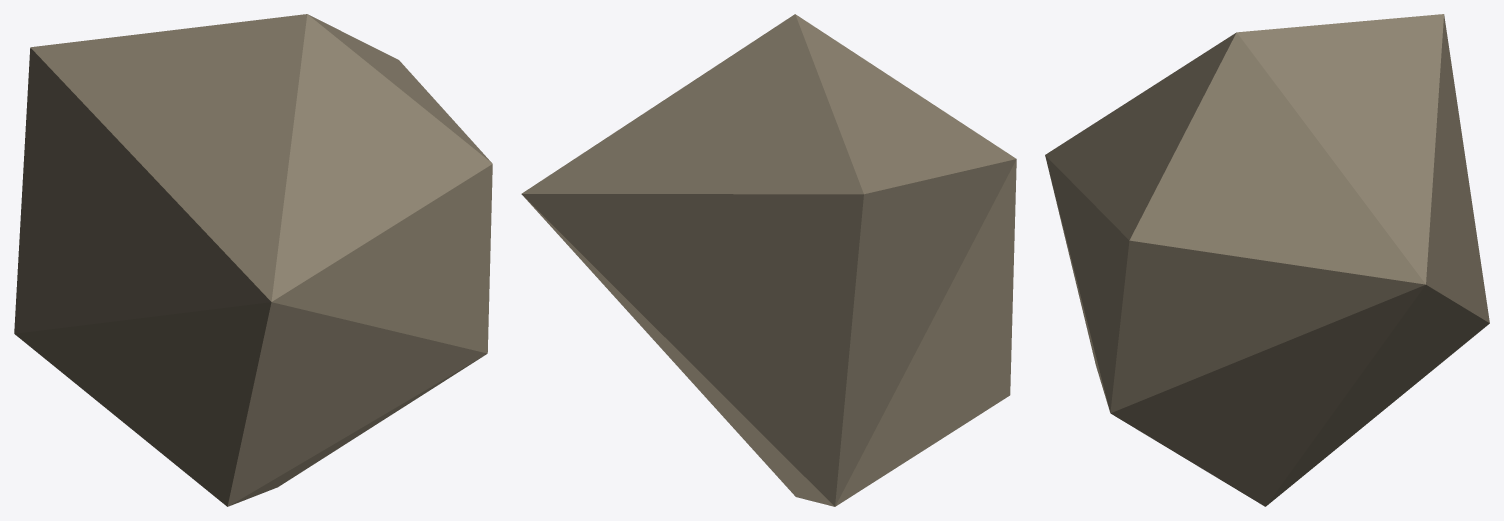
Rendered from Stone_05_Baked.fbx.
The picture shows the model from 3 angles, left to right: view 1: azimuth 30°, elevation 25°; view 2: azimuth 150°, elevation 25°; view 3: azimuth 270°, elevation 25°; orthographic projection. The views are drawn at different scales.
Parts seen in each view (by area): view 1: Stone05; view 2: Stone05; view 3: Stone05.
Part boxes in pixels (x1,y1,x2,y2): Stone05: [14, 14, 492, 506]; Stone05: [521, 14, 1016, 506]; Stone05: [1045, 14, 1489, 506].
Size of the model in its own units: 66.81 by 85.19 by 71.27.
